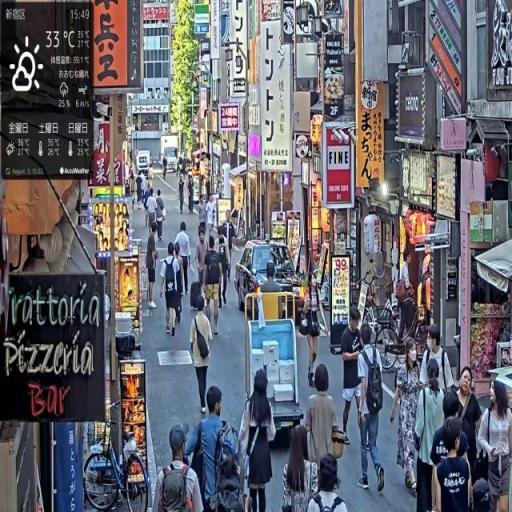person: (183, 384, 247, 512), (240, 369, 278, 512), (390, 337, 424, 496), (356, 327, 387, 496), (415, 361, 448, 512), (476, 378, 512, 512), (305, 364, 348, 470), (154, 426, 204, 512), (432, 411, 473, 512), (341, 309, 367, 450), (282, 423, 319, 512), (190, 293, 212, 420), (309, 450, 350, 512), (420, 326, 454, 399), (202, 233, 224, 340), (161, 241, 185, 338), (176, 221, 193, 297), (147, 224, 159, 312), (196, 229, 211, 296), (156, 188, 168, 241)
